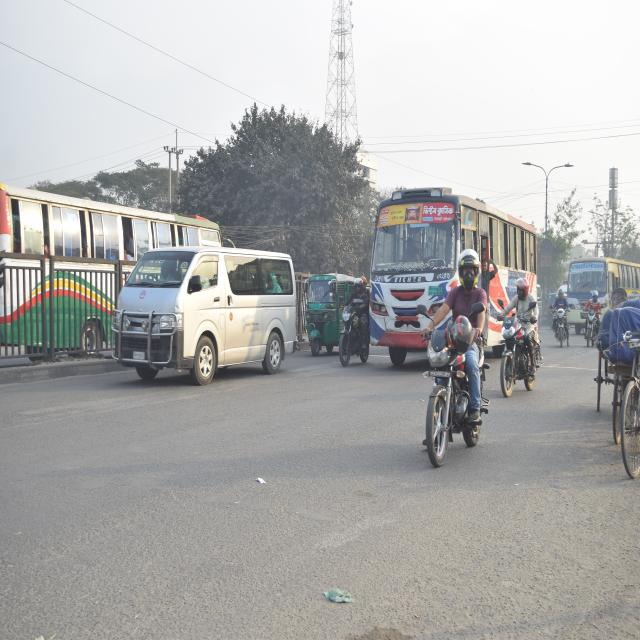bus: (367, 192, 539, 342), (566, 256, 640, 314)
microbus: (112, 238, 302, 389)
motorbike: (401, 294, 489, 476), (495, 293, 541, 403), (323, 292, 374, 370), (549, 292, 571, 350), (580, 294, 600, 351)
